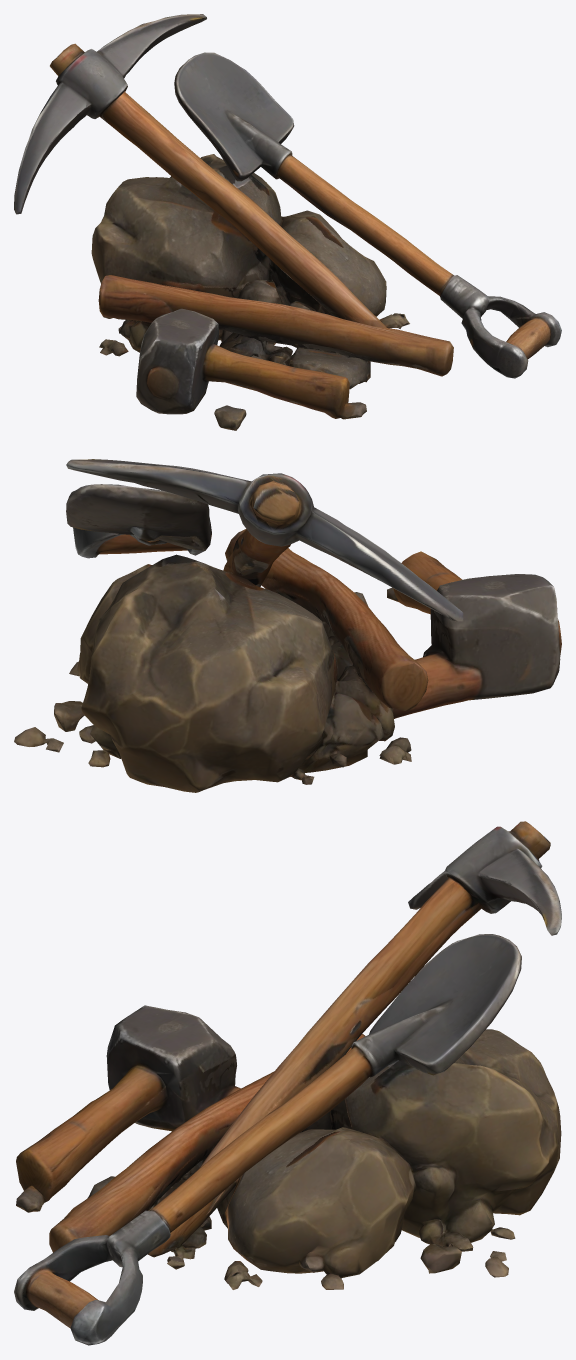
3 renders of one model, top to bottom at view 1: azimuth 30°, elevation 25°; view 2: azimuth 150°, elevation 25°; view 3: azimuth 270°, elevation 25°, orthographic. The views are drawn at different scales.
Visible parts, largest first — view 1: Mining tools; view 2: Mining tools; view 3: Mining tools.
Part boxes in pixels (x1=…): Mining tools: x1=14, y1=14, x2=561, y2=430; Mining tools: x1=14, y1=459, x2=561, y2=792; Mining tools: x1=14, y1=821, x2=561, y2=1345.
Size of the model in its own units: 1.92 by 1.14 by 1.68.
Materials: 1 (1 with a texture image).
